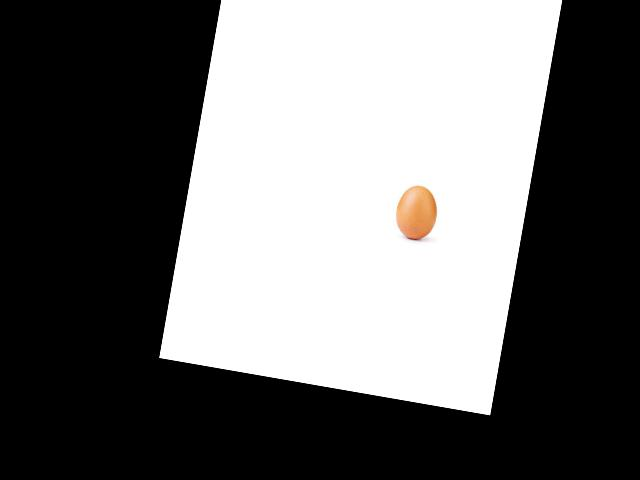egg: (392, 183, 441, 242)
